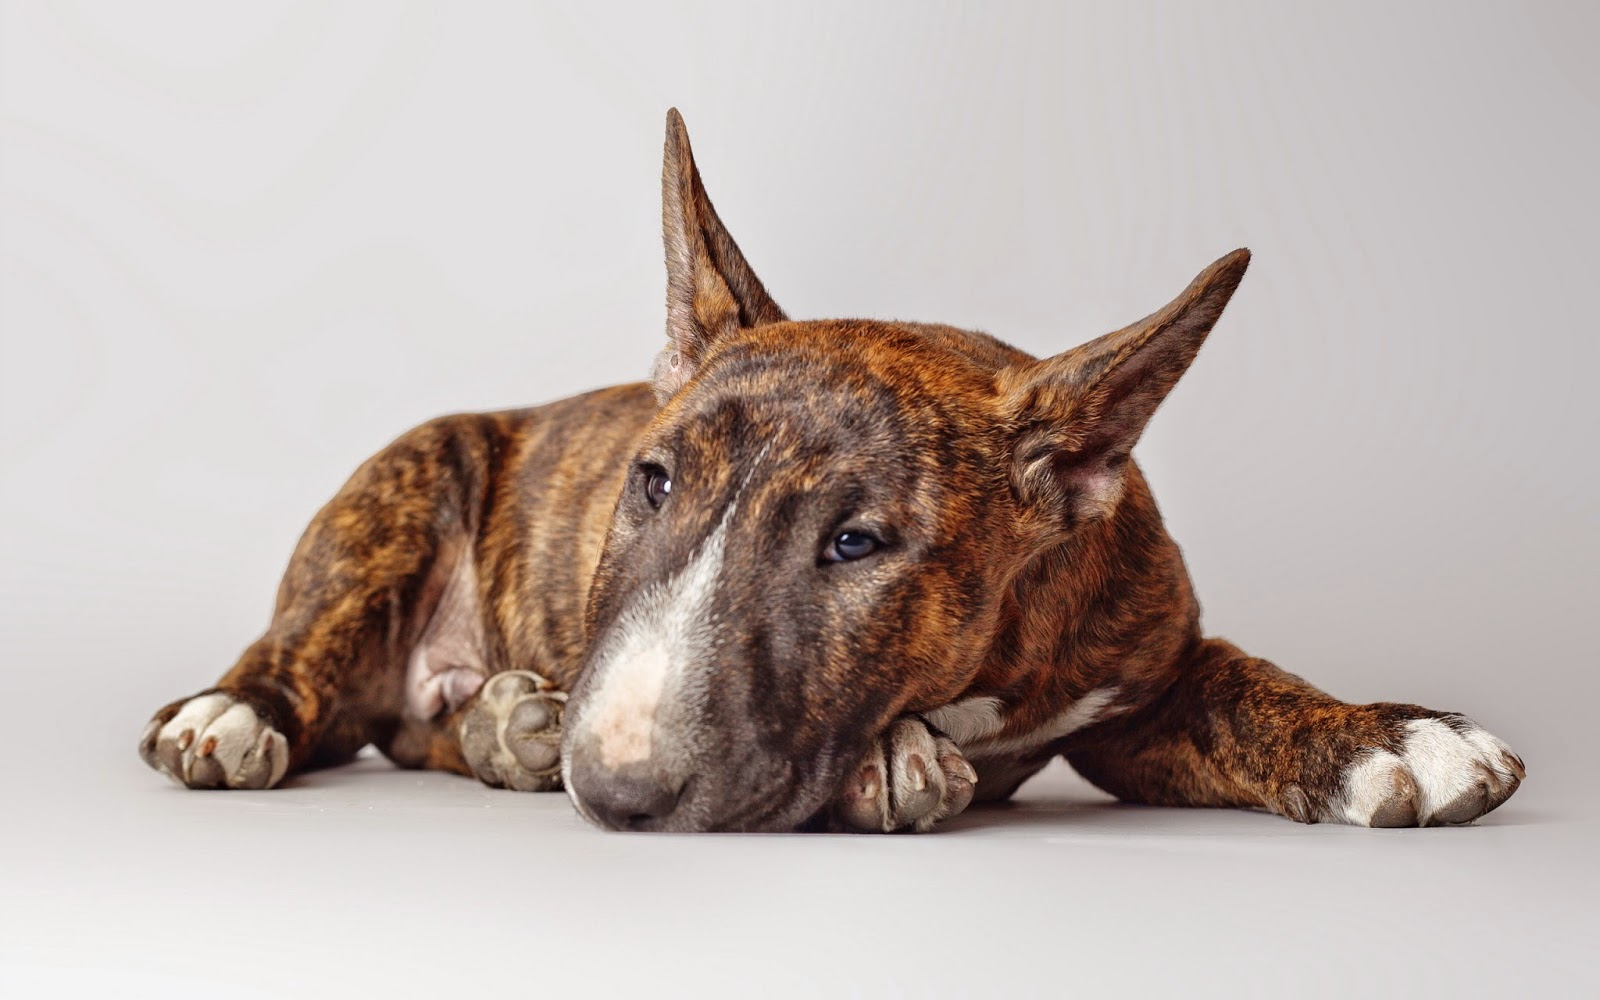bull_terrier: (132, 105, 1527, 836)
